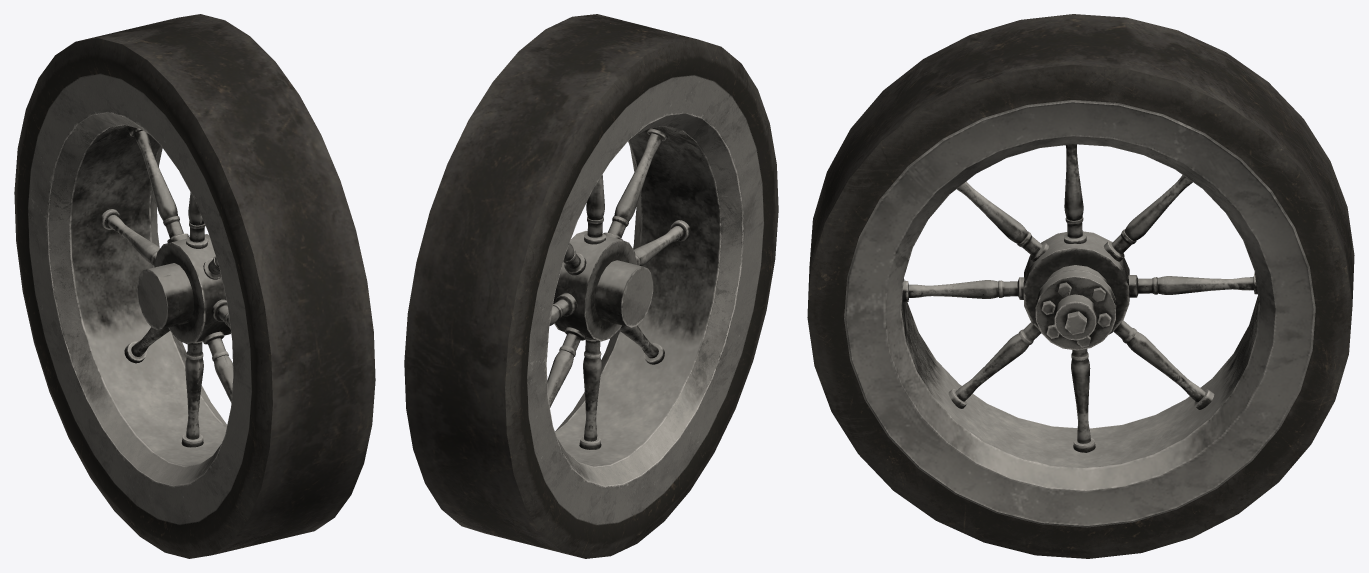
The model's file is VintageCar_WheelRL.fbx.
3 views of the same model, side by side, from view 1: azimuth 30°, elevation 25°; view 2: azimuth 150°, elevation 25°; view 3: azimuth 270°, elevation 25° (orthographic). The views are drawn at different scales.
Visible parts, largest first — view 1: VintageCar_WheelRL; view 2: VintageCar_WheelRL; view 3: VintageCar_WheelRL.
Part boxes in pixels (left/top/right/bottom): VintageCar_WheelRL: left=14, top=14, right=375, bottom=558; VintageCar_WheelRL: left=404, top=14, right=778, bottom=558; VintageCar_WheelRL: left=807, top=14, right=1354, bottom=558.
Bounding box in the file's own units: 25.9 × 87.75 × 88.05.
Materials: 1 (1 with a texture image).
